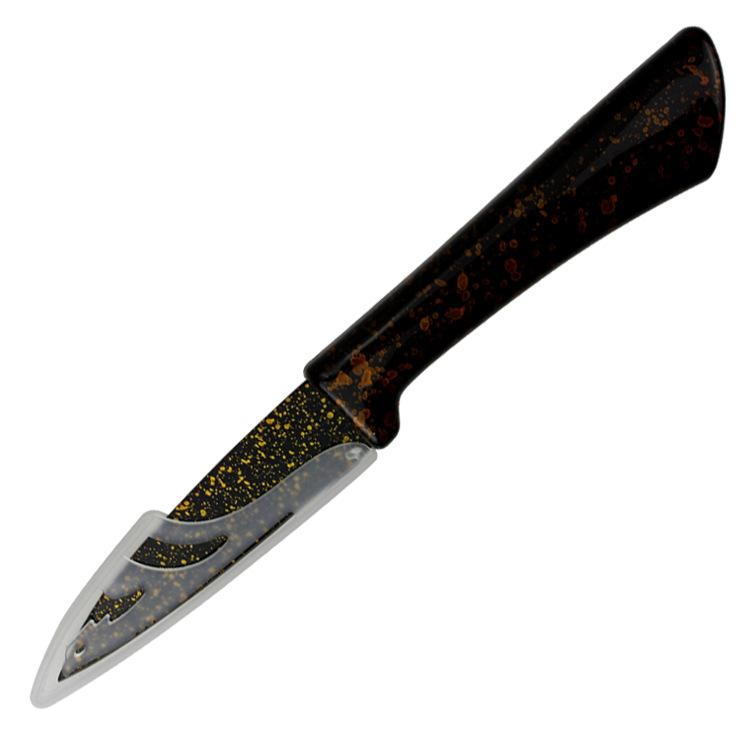knife: (12, 17, 737, 750)
